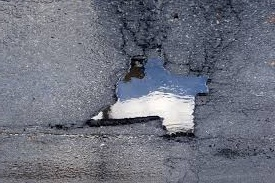pothole: (84, 57, 211, 143)
